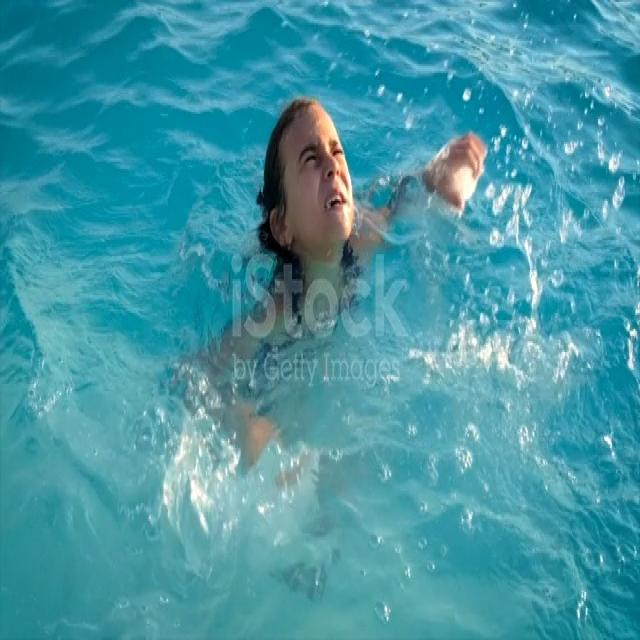Drowning: (228, 81, 474, 289)
